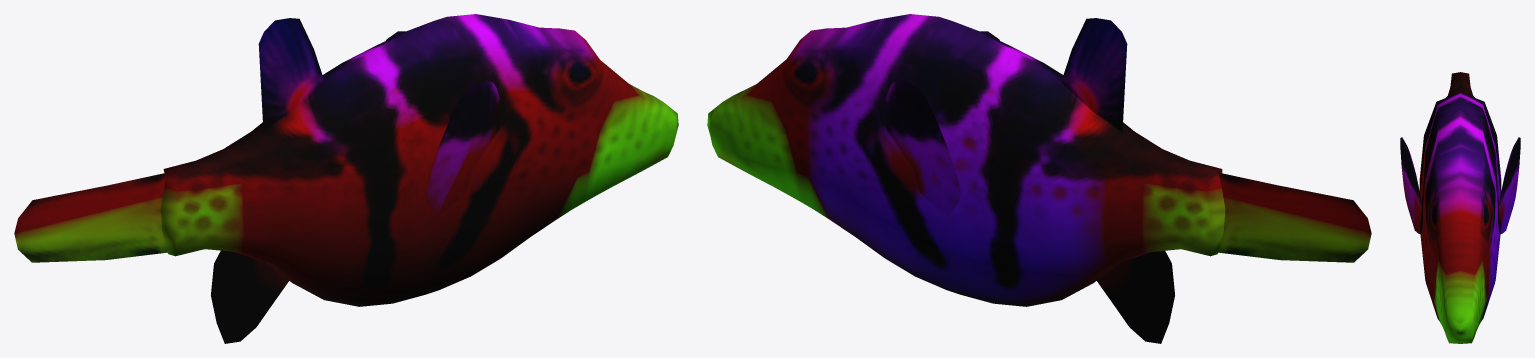
File: valentini_puffer.glb
The picture shows the model from 3 angles, left to right: view 1: azimuth 30°, elevation 25°; view 2: azimuth 150°, elevation 25°; view 3: azimuth 270°, elevation 25°; orthographic projection. The views are drawn at different scales.
Visible parts, largest first — view 1: ValentiniPuffer; view 2: ValentiniPuffer; view 3: ValentiniPuffer.
Boxes of the visible parts, x1,y1,x2,y2 form: ValentiniPuffer: (14, 14, 678, 343); ValentiniPuffer: (707, 14, 1371, 343); ValentiniPuffer: (1400, 72, 1520, 343).
Size of the model in its own units: 1 by 0.4499 by 0.197.
Materials: 1 (1 with a texture image).
